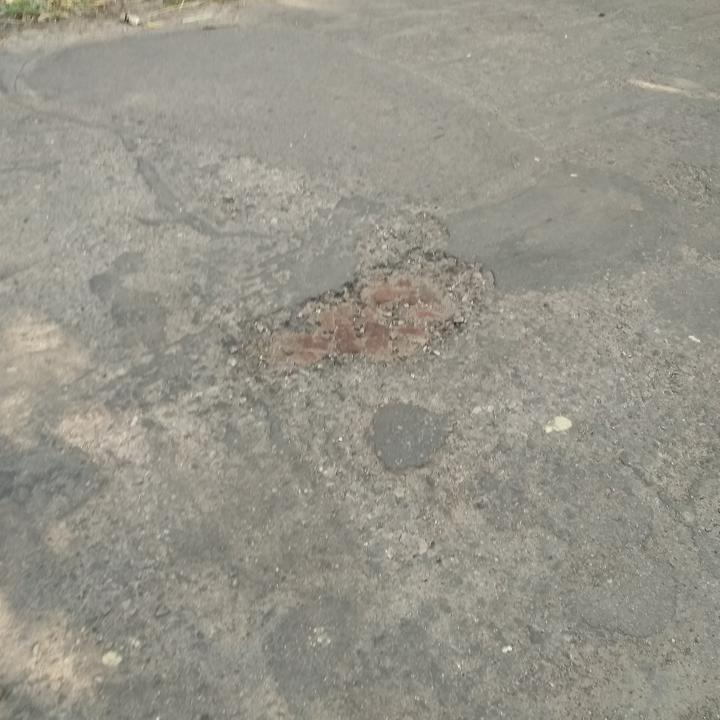pothole: (239, 244, 499, 385)
